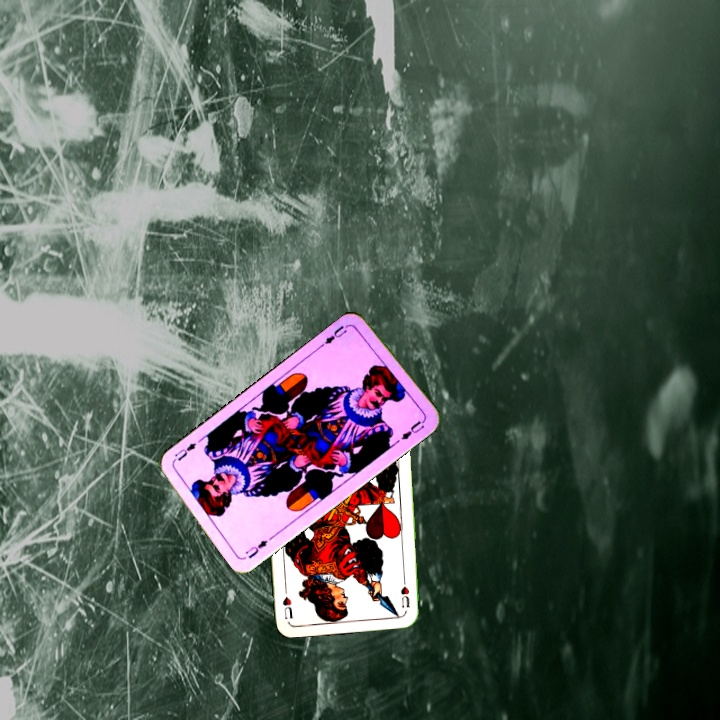EU: (318, 320, 353, 348), (242, 536, 270, 561)
HU: (396, 582, 412, 610)
